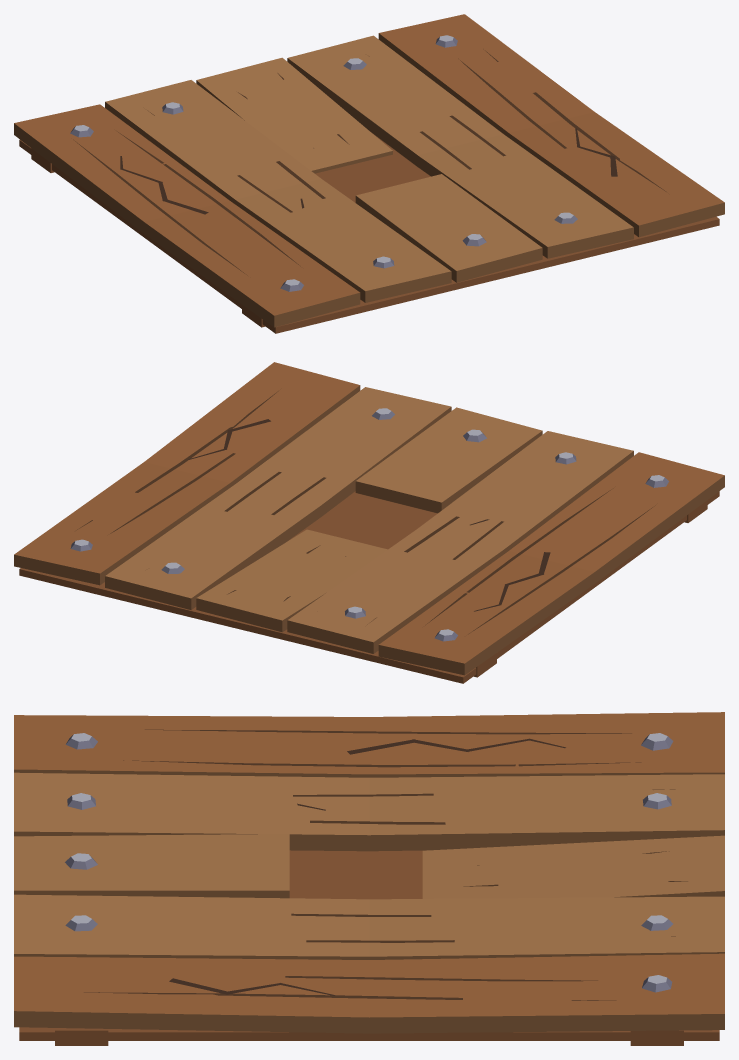
File: floor_plank_crack2.glb
3 views of the same model, one above another, from view 1: azimuth 30°, elevation 25°; view 2: azimuth 150°, elevation 25°; view 3: azimuth 270°, elevation 25° (orthographic). The views are drawn at different scales.
Parts seen in each view (by area): view 1: Body; view 2: Body; view 3: Body.
Part boxes in pixels (left/top/right/bottom): Body: left=14, top=14, right=724, bottom=333; Body: left=14, top=362, right=724, bottom=683; Body: left=14, top=712, right=724, bottom=1045.
Size of the model in its own units: 4 by 0.246 by 4.
